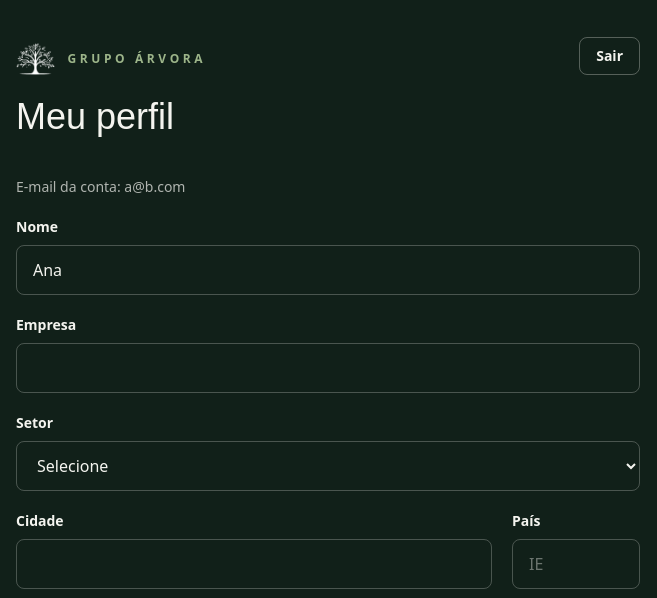
Test case: tela Meu perfil › não envia nada ao banco com campo inválido
In the field labelled "País": (576, 564) [512,539,640,589], type "x1"
(page scrolled)
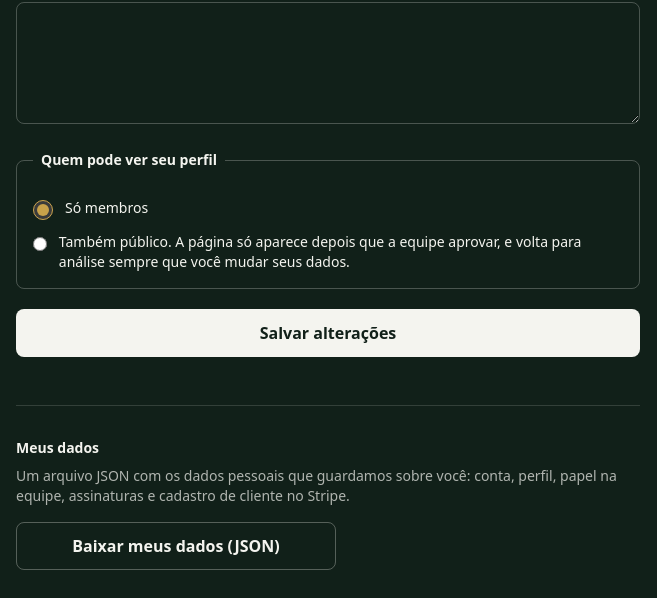
Click the button "Salvar alterações": (328, 333) [16,309,640,357]
(page scrolled)
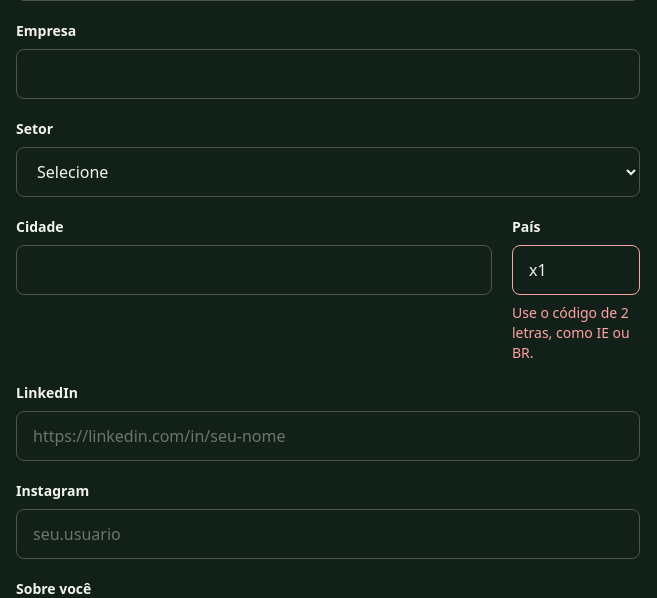
Expected: the text "Use o código de 2 letras, como IE ou BR." is shown, [512,303,640,363]
